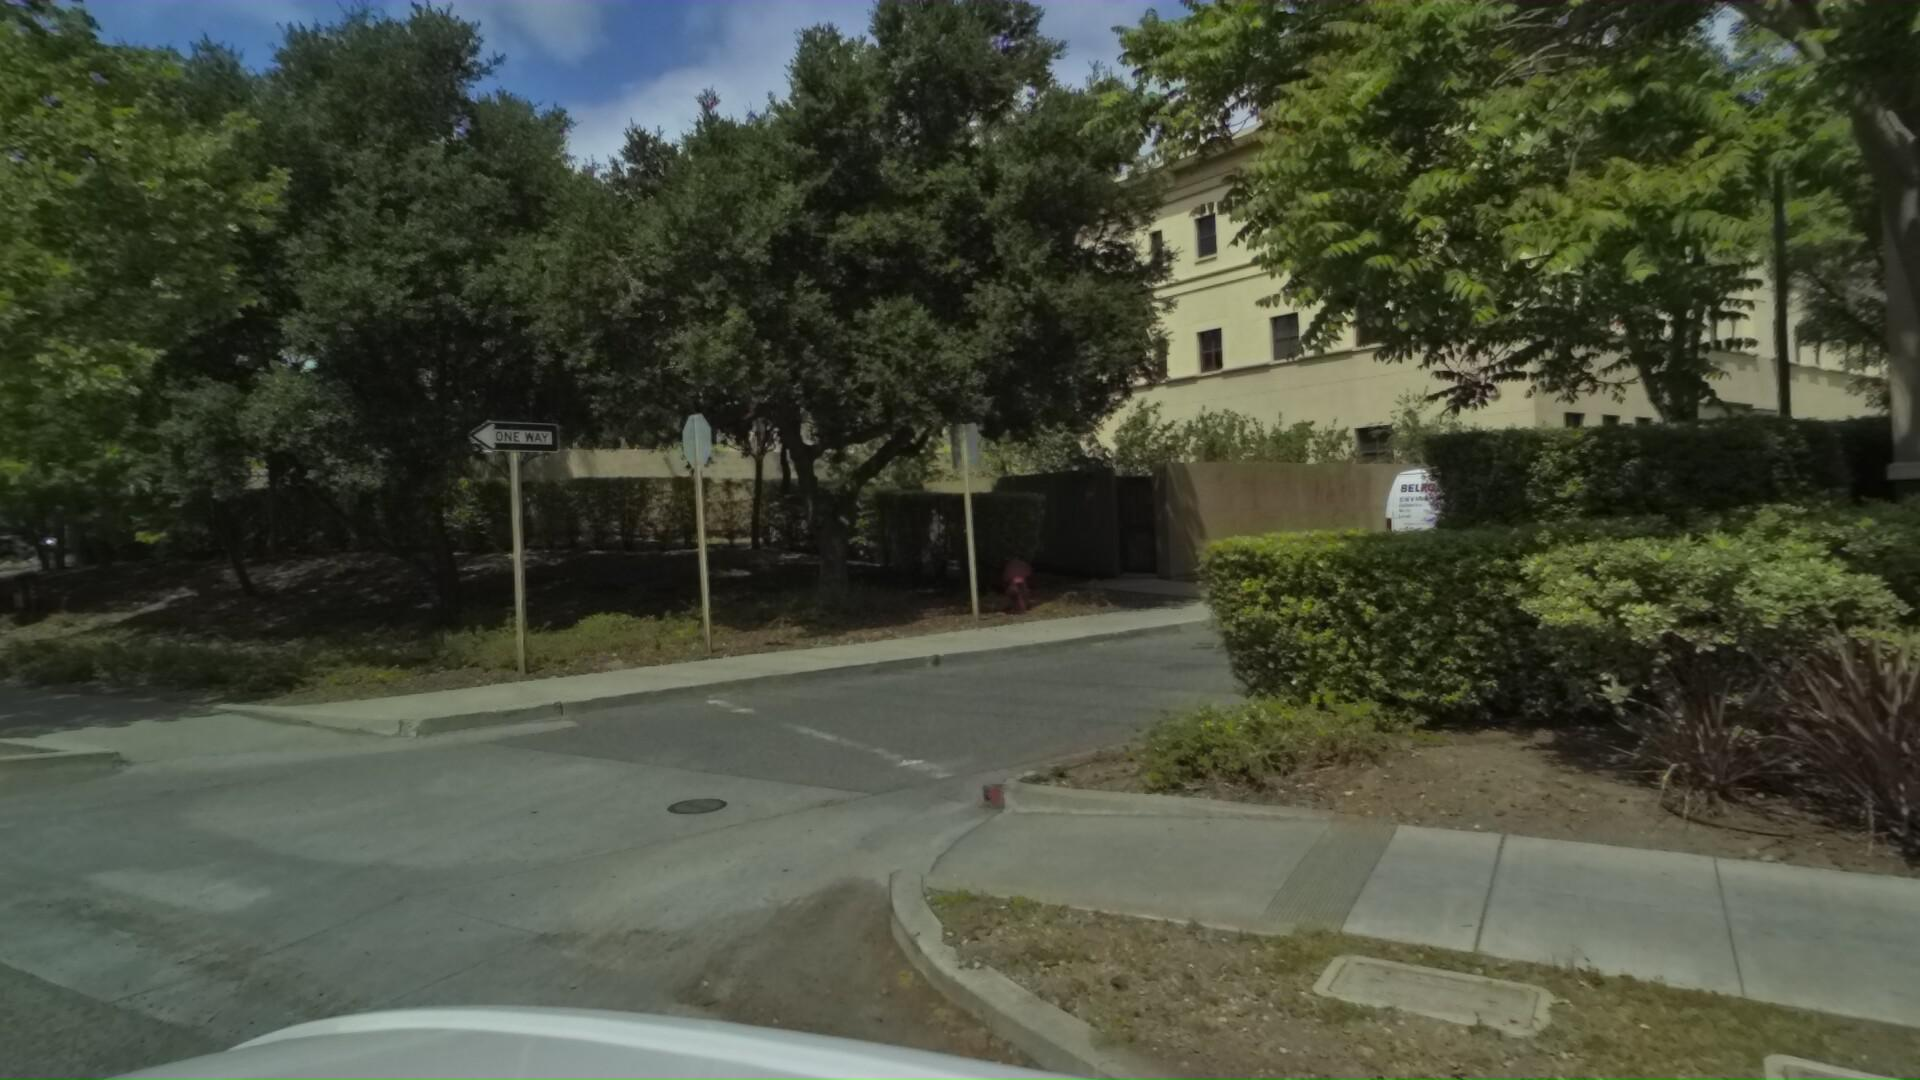car: (1393, 450, 1656, 584), (0, 530, 33, 567)
